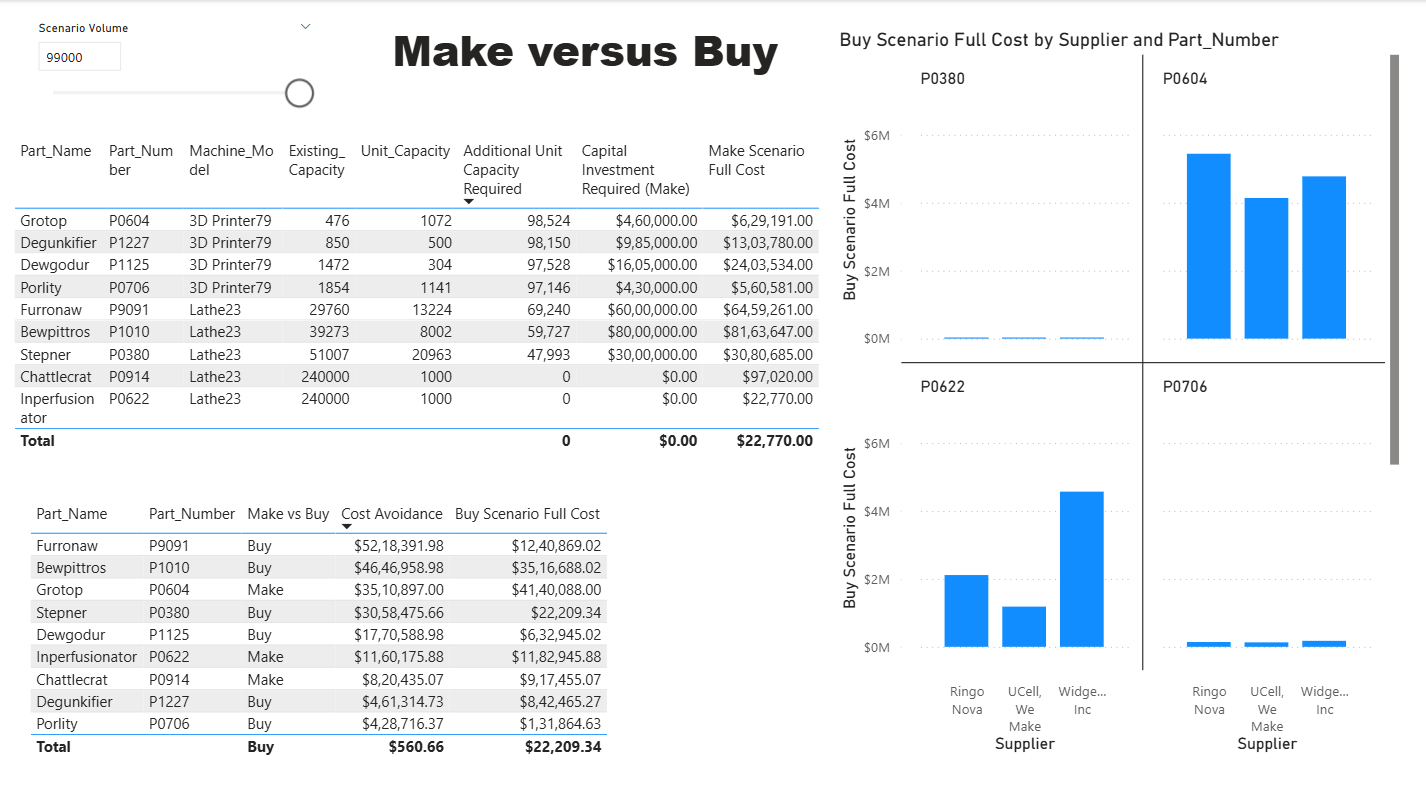

This screenshot's page, from the dashboard's own definition file:
{"tool":"powerbi","page":{"name":"Make versus Buy","canvas":[1280,720],"ordinal":2},"visuals":[{"type":"slicer","fields":{"Values":["Scenario Volume.Scenario Volume"]},"box":[23.3,13.4,269.6,86],"z":0},{"type":"tableEx","fields":{"Values":["Product_Dimension.Part_Name","Product_Dimension.Part_Number","Internal_Mfg_Resource_Estimates.Machine_Model","Internal_Mfg_Resource_Estimates.Existing_Capacity","Internal_Mfg_Resource_Estimates.Unit_Capacity","Internal_Mfg_Resource_Estimates.Additional Unit Capacity Required","Internal_Mfg_Resource_Estimates.Capital Investment Required (Make)","Internal_Mfg_Resource_Estimates.Make Scenario Full Cost"]},"box":[9,120,733.4,304.5],"z":1000},{"type":"textbox","box":[325.1,13.4,401.2,94.9],"z":2000},{"type":"tableEx","fields":{"Values":["Product_Dimension.Part_Name","Product_Dimension.Part_Number","Scenario Volume.Make vs Buy","Scenario Volume.Cost Avoidance","Scenario Volume.Buy Scenario Full Cost"]},"box":[23.3,445.1,531,244.5],"z":3000},{"type":"clusteredColumnChart","fields":{"Y":["Scenario Volume.Buy Scenario Full Cost"],"Rows":["Product_Dimension.Part_Number"],"Category":["Quotes.Supplier"]},"box":[748.7,25.1,511.3,655.5],"z":4000}]}

Visuals, with their boxes in screenshot pixels (x1, y1, x2, y2), scaled from the page's 1280x720 canvas onto the 1426x789 screenshot:
slicer - Scenario Volume.Scenario Volume: 26 15 326 109
tableEx - Product_Dimension.Part_Name x Product_Dimension.Part_Number: 10 132 827 465
textbox: 362 15 809 119
tableEx - Product_Dimension.Part_Name x Product_Dimension.Part_Number: 26 488 618 756
clusteredColumnChart - Scenario Volume.Buy Scenario Full Cost x Product_Dimension.Part_Number: 834 28 1404 746
